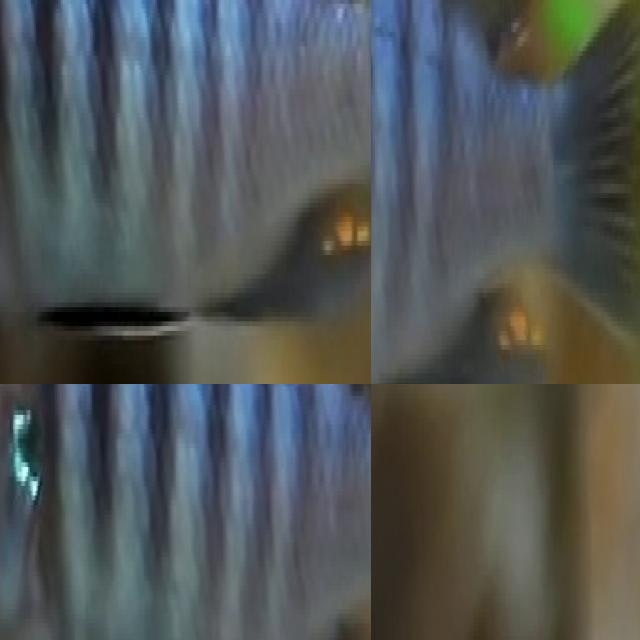fish: (0, 0, 371, 384), (371, 0, 640, 384), (0, 384, 371, 640)
